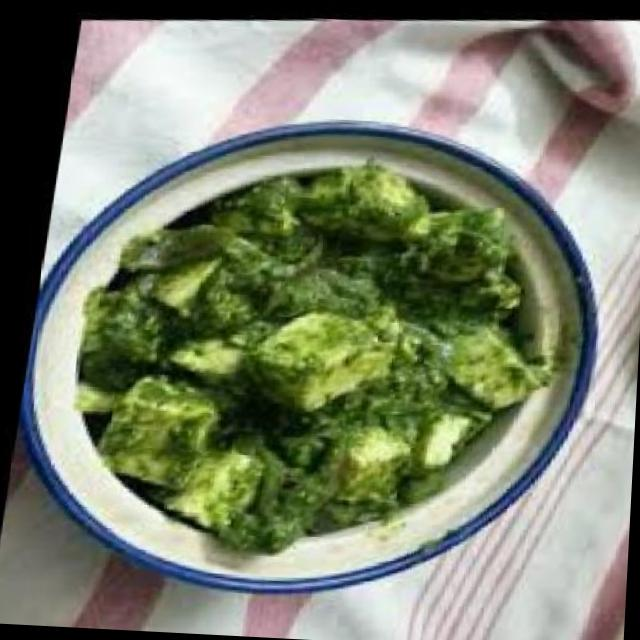palak_paneer: (40, 140, 567, 575)
